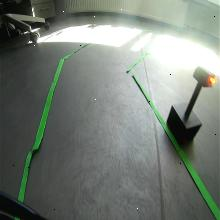red: (193, 66, 217, 90)
